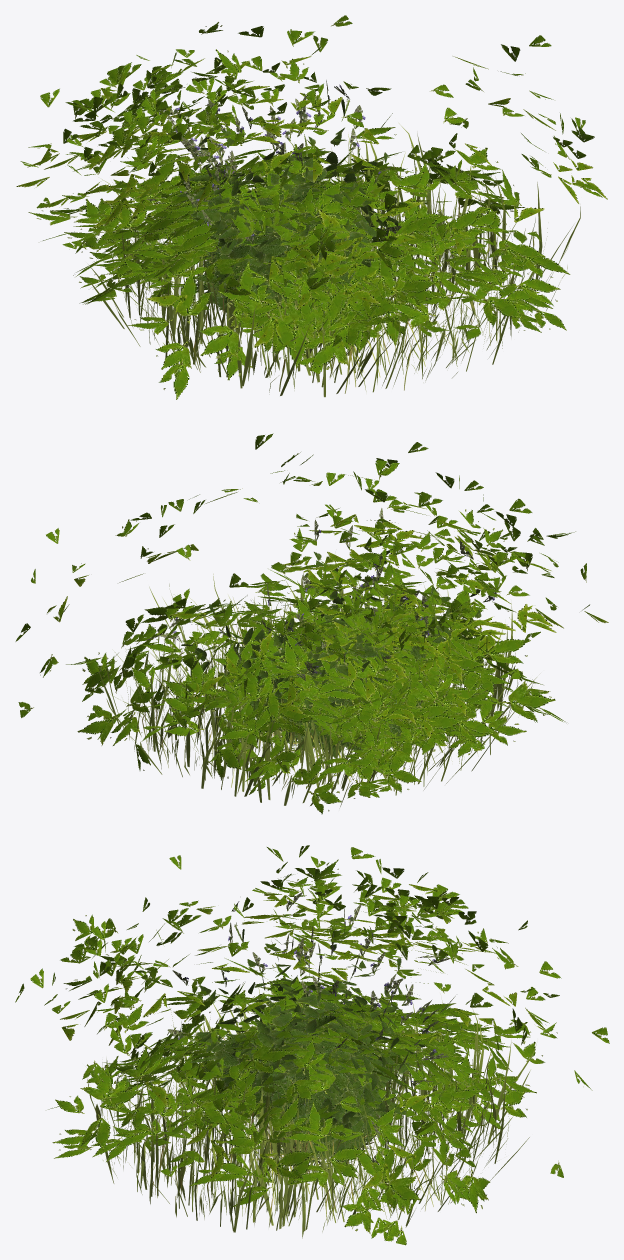
Rendered from grass.glb.
The picture shows the model from 3 angles, top to bottom: view 1: azimuth 30°, elevation 25°; view 2: azimuth 150°, elevation 25°; view 3: azimuth 270°, elevation 25°; orthographic projection. The views are drawn at different scales.
Visible parts, largest first — view 1: Plant_7, Plant_6, GrassLawnAutumn_Grass2_Mat1_0, Plant_15, GrassLawnAutumn_Grass3_Mat_0, Plant_16, GrassLawnAutumn_Grass1_Mat1_0, GrassLawnAutumn_Grass_Mat1_0; view 2: Plant_7, Plant_6, GrassLawnAutumn_Grass2_Mat1_0, Plant_15, GrassLawnAutumn_Grass3_Mat_0, Plant_16, GrassLawnAutumn_Grass1_Mat1_0, GrassLawnAutumn_Grass_Mat1_0; view 3: Plant_7, Plant_6, Plant_15, GrassLawnAutumn_Grass2_Mat1_0, Plant_16, GrassLawnAutumn_Grass3_Mat_0, GrassLawnAutumn_Grass1_Mat1_0, GrassLawnAutumn_Grass_Mat1_0.
Part boxes in pixels (<box>): Plant_7: <box>16,22,607,399</box>; Plant_6: <box>20,15,602,373</box>; GrassLawnAutumn_Grass2_Mat1_0: <box>89,123,580,397</box>; Plant_15: <box>163,80,426,330</box>; GrassLawnAutumn_Grass3_Mat_0: <box>103,134,572,392</box>; Plant_16: <box>146,96,401,332</box>; GrassLawnAutumn_Grass1_Mat1_0: <box>151,173,513,393</box>; GrassLawnAutumn_Grass_Mat1_0: <box>89,153,569,392</box>; Plant_7: <box>15,476,608,814</box>; Plant_6: <box>18,433,555,781</box>; GrassLawnAutumn_Grass2_Mat1_0: <box>99,562,536,805</box>; Plant_15: <box>145,508,497,750</box>; GrassLawnAutumn_Grass3_Mat_0: <box>112,574,510,797</box>; Plant_16: <box>159,574,469,757</box>; GrassLawnAutumn_Grass1_Mat1_0: <box>142,602,509,789</box>; GrassLawnAutumn_Grass_Mat1_0: <box>124,595,529,806</box>; Plant_7: <box>63,847,559,1239</box>; Plant_6: <box>15,845,609,1245</box>; Plant_15: <box>172,892,450,1157</box>; GrassLawnAutumn_Grass2_Mat1_0: <box>87,976,536,1238</box>; Plant_16: <box>167,926,455,1164</box>; GrassLawnAutumn_Grass3_Mat_0: <box>97,988,505,1231</box>; GrassLawnAutumn_Grass1_Mat1_0: <box>106,1037,483,1229</box>; GrassLawnAutumn_Grass_Mat1_0: <box>127,1027,509,1225</box>.
Bounding box in the file's own units: 4.53 × 2.19 × 4.59.
7 materials, 7 textured.
